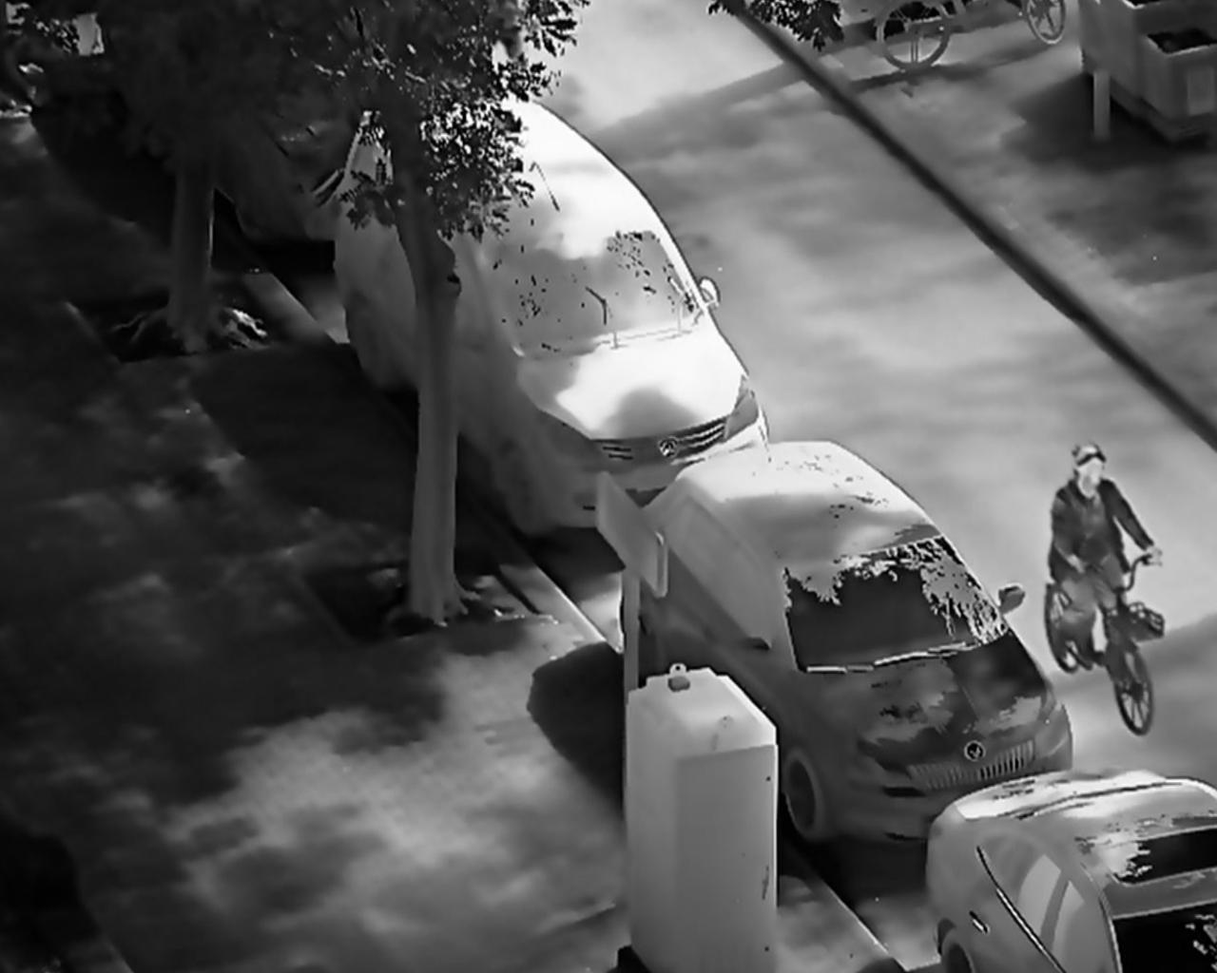person: (1048, 439, 1165, 671)
